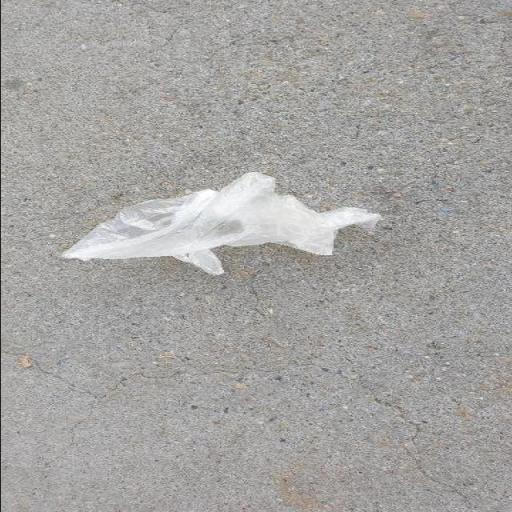plastic-bag: (58, 170, 382, 278)
